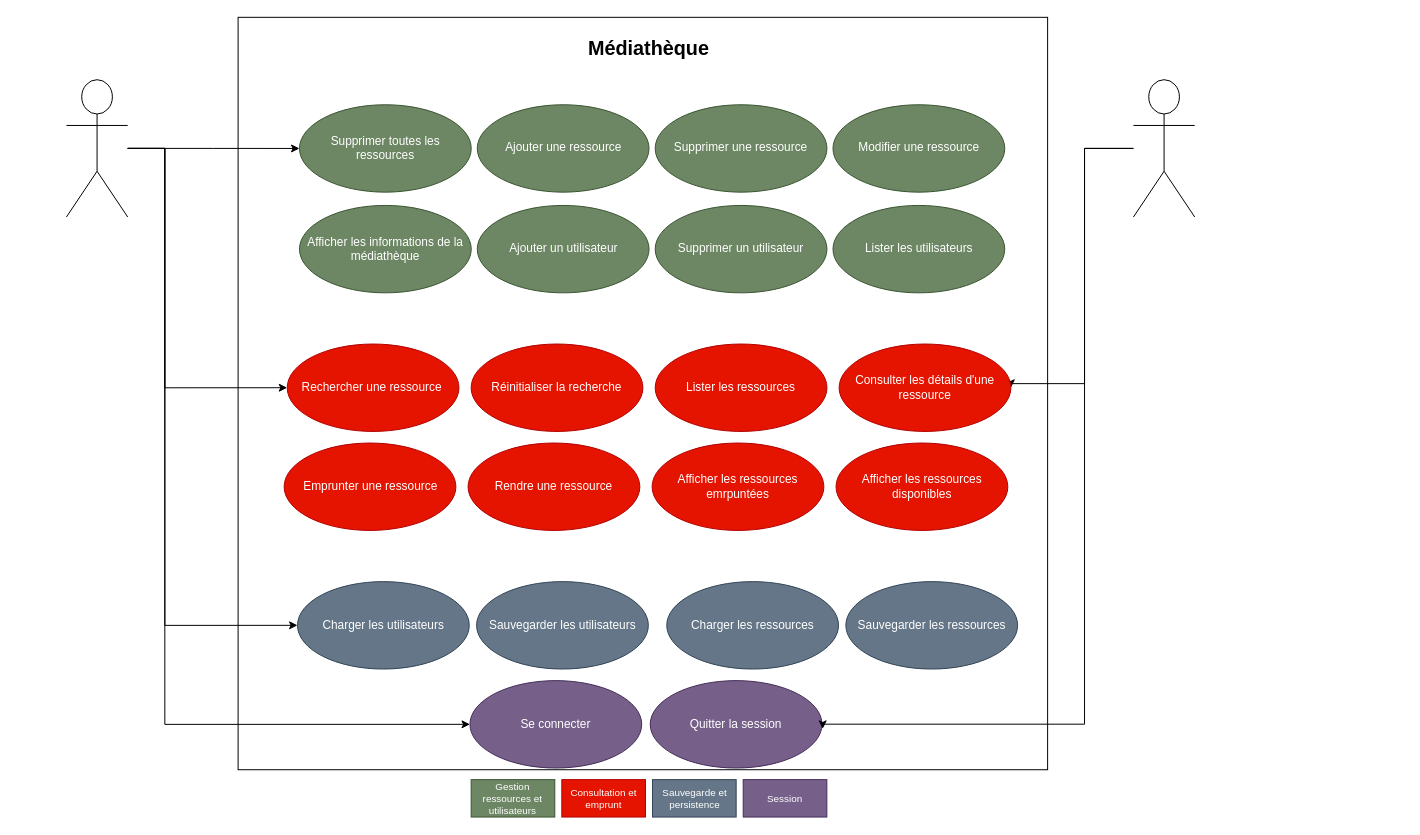
Image size: 1420x835. Some labels were removed from this diagram. Each missing label, with the centre of its shape:
"Admin" belongs at pixel 96 148.
"Client" belongs at pixel 1163 148.
